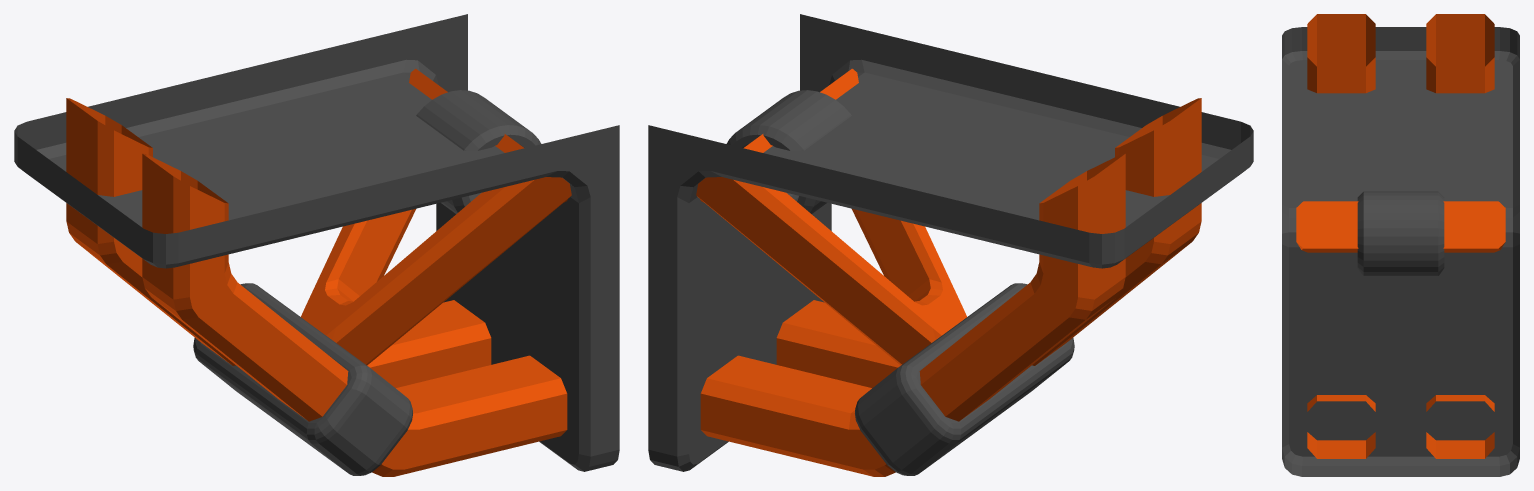
File: AT_SupportBeam_Large.fbx
The picture shows the model from 3 angles, left to right: view 1: azimuth 30°, elevation 25°; view 2: azimuth 150°, elevation 25°; view 3: azimuth 270°, elevation 25°; orthographic projection. The views are drawn at different scales.
Visible parts, largest first — view 1: AT_SupportBeam_Large; view 2: AT_SupportBeam_Large; view 3: AT_SupportBeam_Large.
Part boxes in pixels (box(x1,y1,x2,y2)): AT_SupportBeam_Large: box(14, 14, 619, 476); AT_SupportBeam_Large: box(648, 14, 1253, 476); AT_SupportBeam_Large: box(1282, 14, 1519, 476).
Size of the model in its own units: 724 by 558 by 400.
